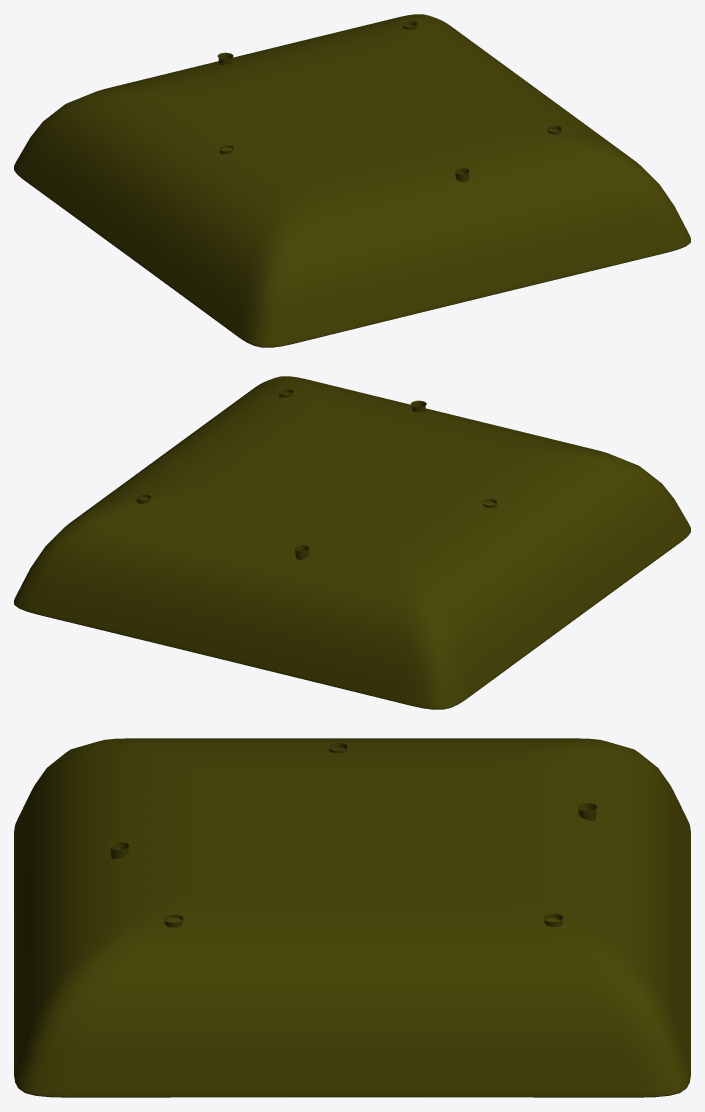
Rendered from Pit.fbx.
3 views of the same model, one above another, from view 1: azimuth 30°, elevation 25°; view 2: azimuth 150°, elevation 25°; view 3: azimuth 270°, elevation 25° (orthographic). The views are drawn at different scales.
Parts seen in each view (by area): view 1: Pit; view 2: Pit; view 3: Pit.
Boxes of the visible parts, bbox=[...] form: Pit: bbox=[14, 14, 690, 347]; Pit: bbox=[14, 376, 690, 709]; Pit: bbox=[14, 738, 690, 1097].
Size of the model in its own units: 6.43 by 1.86 by 6.43.
